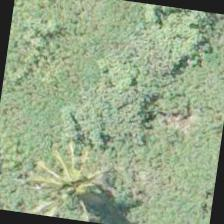Kelapa_Sawit: (24, 131, 126, 223)
